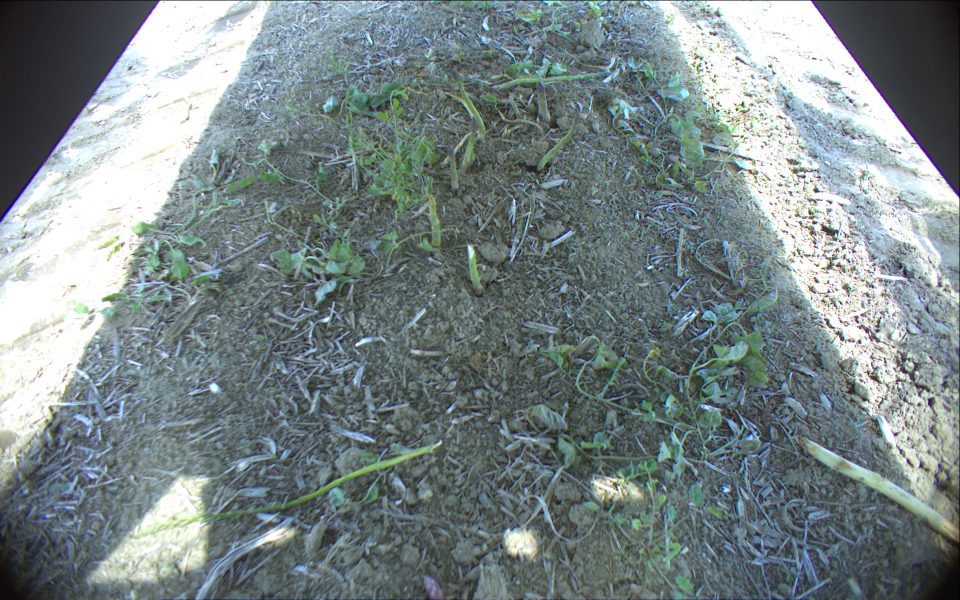aspa: (134, 439, 441, 539), (802, 437, 960, 543), (535, 110, 581, 169), (491, 68, 612, 90), (457, 77, 488, 139), (460, 117, 476, 172), (428, 193, 438, 252), (535, 79, 549, 121), (468, 243, 481, 288), (449, 143, 458, 193)
